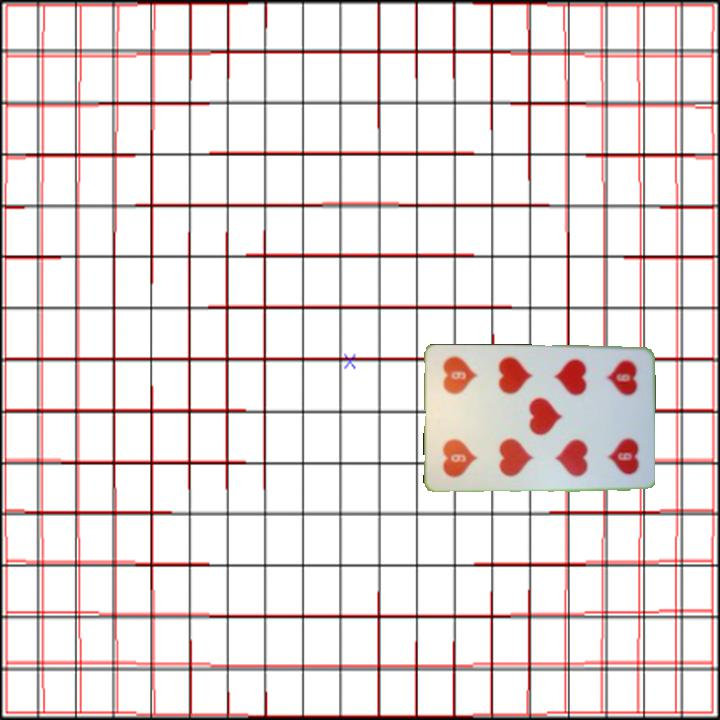h_9.png: (433, 415, 492, 482), (587, 354, 645, 421)
